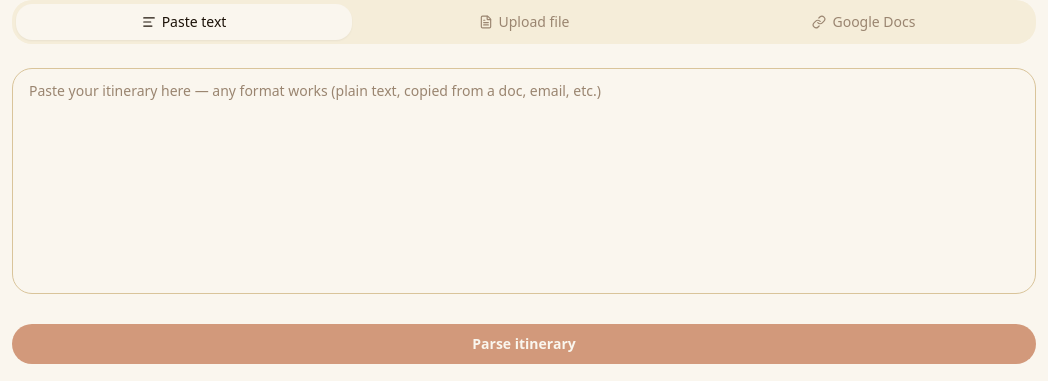
Test: UploadForm › shows the file upload area when 'Upload file' tab is clicked
Click the tab "Upload file": (524, 22) [356,4,692,40]
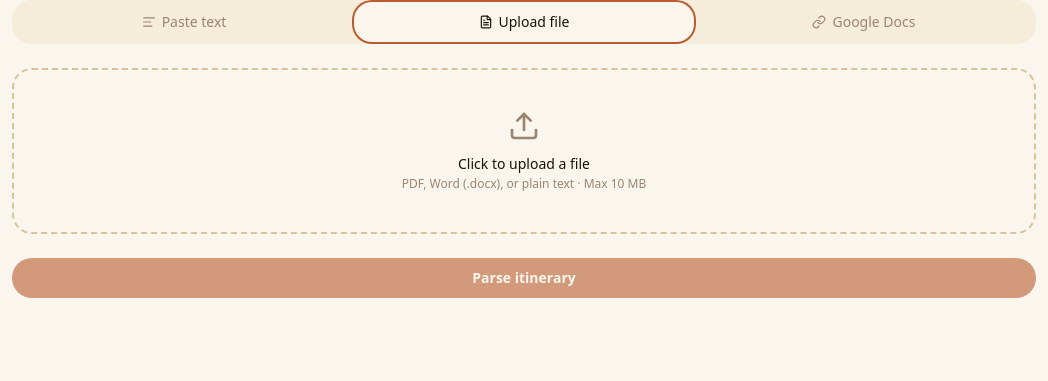
Result: the button "Click to upload" is shown at [12,68,1036,234]
